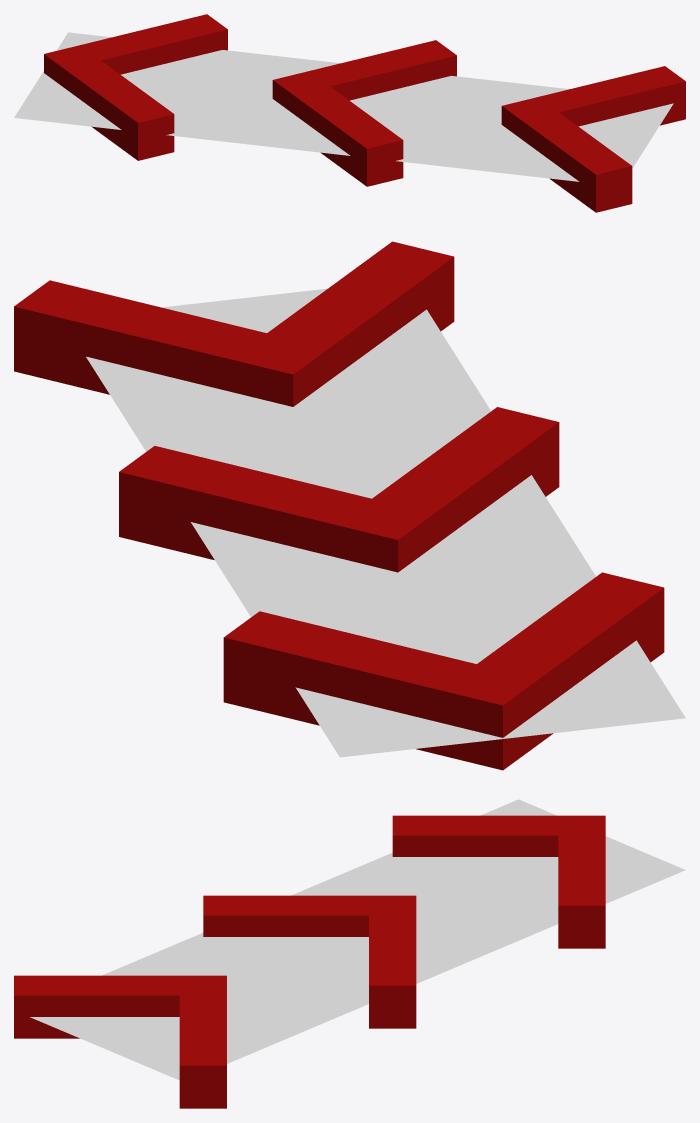
The model's file is Ladder.fbx.
3 views of the same model, one above another, from view 1: azimuth 30°, elevation 25°; view 2: azimuth 150°, elevation 25°; view 3: azimuth 270°, elevation 25° (orthographic). The views are drawn at different scales.
Visible parts, largest first — view 1: pPlane1, pCube2, pCube1, pCube3; view 2: pPlane1, pCube3, pCube2, pCube1; view 3: pPlane1, pCube2, pCube1, pCube3.
Boxes of the visible parts, left/top/right/bottom form: pPlane1: left=14, top=32, right=673, bottom=181; pCube2: left=501, top=66, right=685, bottom=212; pCube1: left=272, top=40, right=456, bottom=186; pCube3: left=44, top=14, right=227, bottom=160; pPlane1: left=86, top=288, right=685, bottom=757; pCube3: left=223, top=572, right=664, bottom=770; pCube2: left=14, top=241, right=454, bottom=406; pCube1: left=119, top=407, right=559, bottom=572; pPlane1: left=30, top=799, right=685, bottom=1080; pCube2: left=14, top=975, right=226, bottom=1108; pCube1: left=203, top=895, right=416, bottom=1028; pCube3: left=392, top=815, right=605, bottom=948.
Size of the model in its own units: 14.39 by 1 by 14.19.
